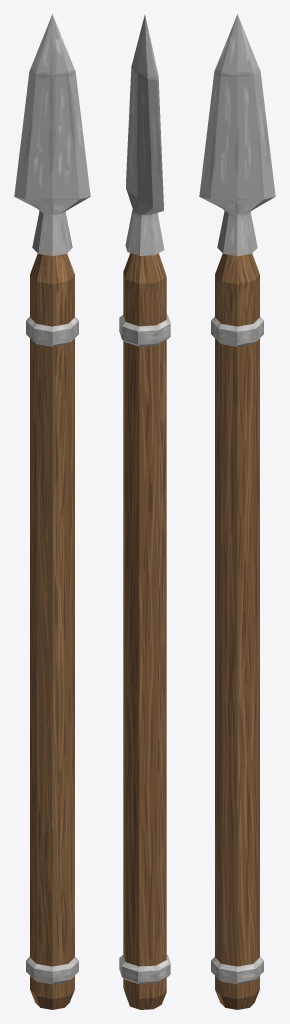
Rendered from Spear.fbx.
3 renders of one model, left to right at view 1: azimuth 90°, elevation 25°; view 2: azimuth 210°, elevation 25°; view 3: azimuth 270°, elevation 25°, orthographic.
Visible parts, largest first — view 1: Circle; view 2: Circle; view 3: Circle.
Part boxes in pixels (x1,y1,x2,y2): Circle: (14,14,90,1009); Circle: (119,15,170,1009); Circle: (199,14,275,1009).
Bounding box in the file's own units: 176 × 3603 × 252.
